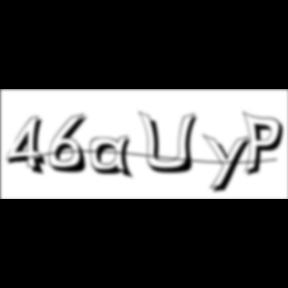4: (6, 115, 53, 179)
6: (48, 112, 94, 176)
P: (242, 110, 288, 180)
U: (138, 110, 204, 176)
a: (91, 135, 139, 182)
y: (203, 132, 257, 196)
